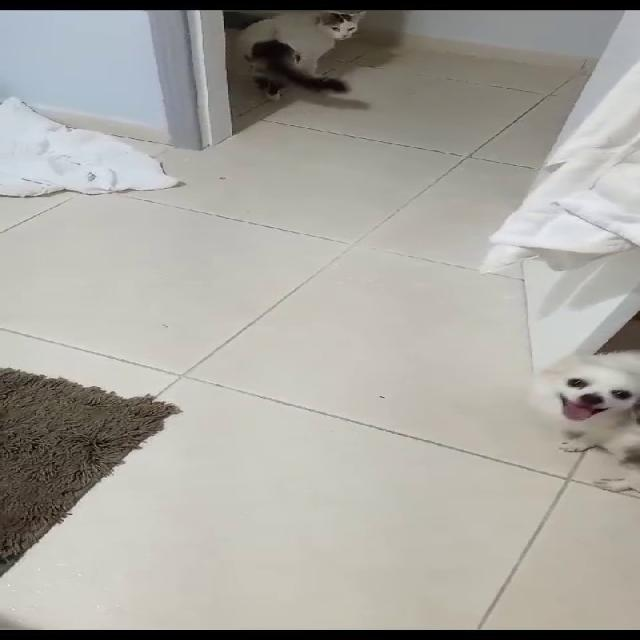Simba: (231, 8, 376, 124)
Theo: (538, 338, 639, 490)
